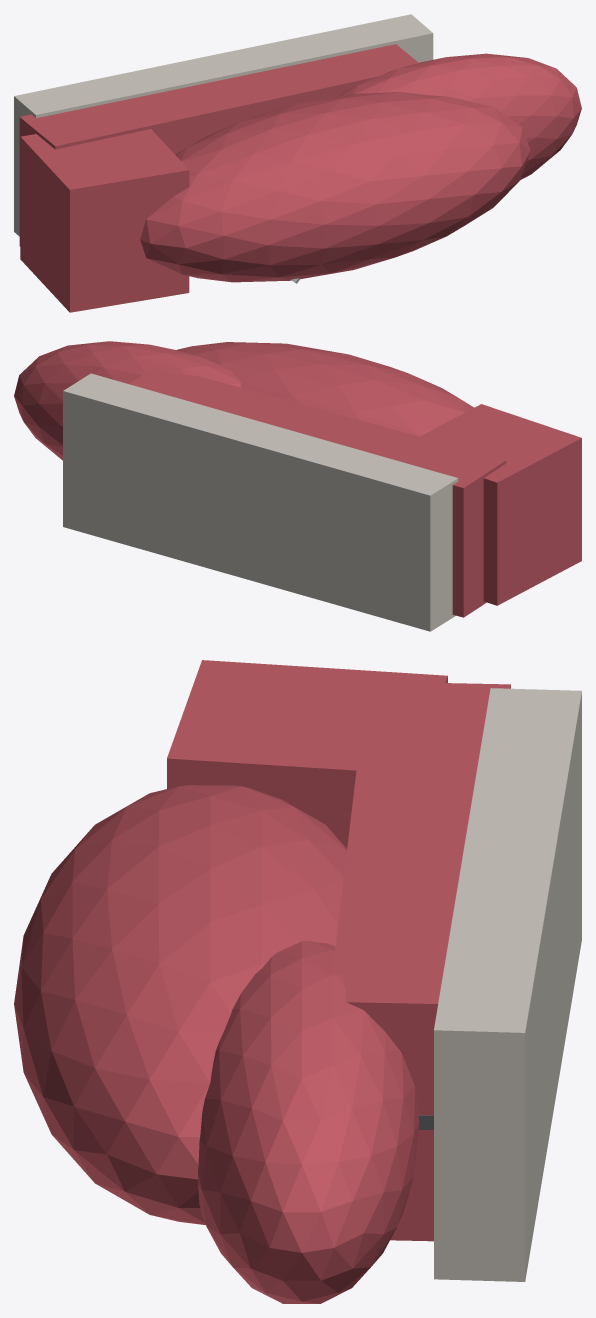
3 renders of one model, top to bottom at view 1: azimuth 30°, elevation 25°; view 2: azimuth 150°, elevation 25°; view 3: azimuth 270°, elevation 25°, orthographic. The views are drawn at different scales.
Visible parts, largest first — view 1: geometry_0; view 2: geometry_0; view 3: geometry_0.
Boxes of the visible parts, x1,y1,x2,y2 form: geometry_0: (14,14,581,312); geometry_0: (14,341,581,631); geometry_0: (14,660,581,1303).
Size of the model in its own units: 0.4341 by 0.114 by 0.217.
